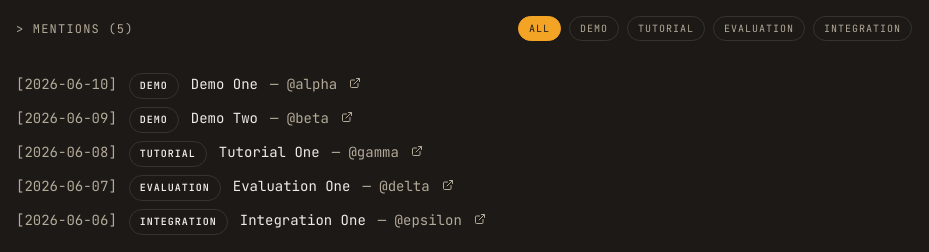
Scenario: MuseumMentions › filters the list to only Demo mentions when the Demo pill is clicked
Click the button "Demo" at [594, 28], box [569,16,619,41]
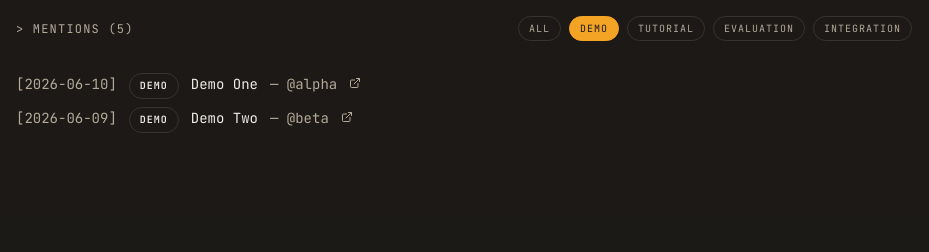
Expected: the number of list items is 2, [16,73,361,99]; [16,107,353,133]
